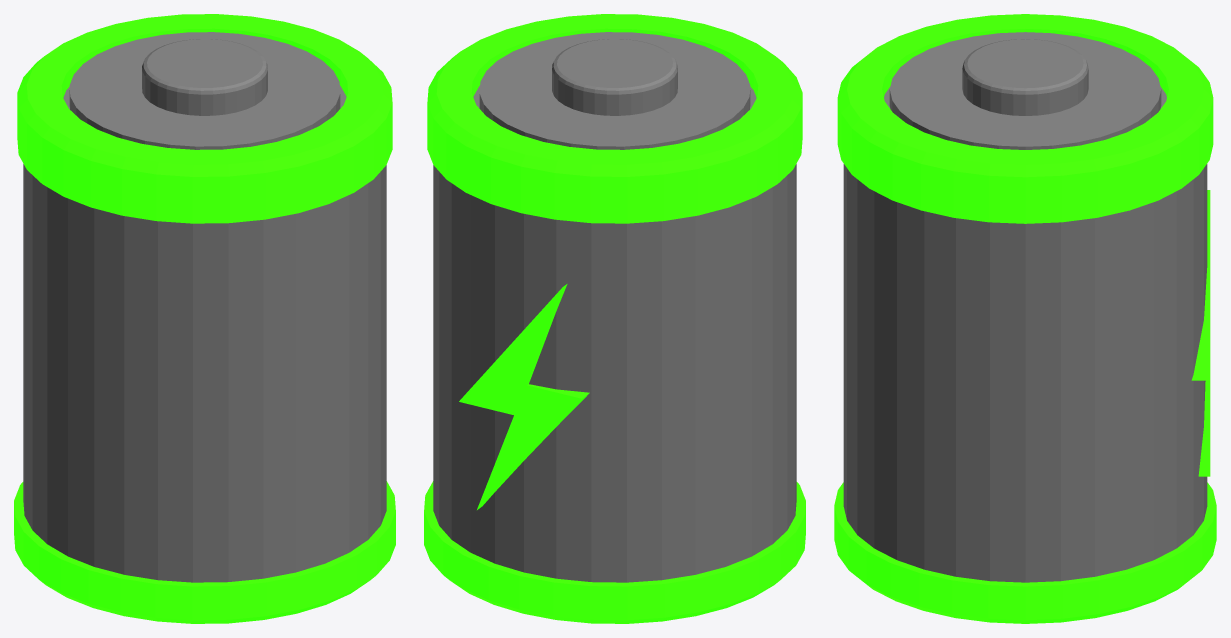
Rendered from Battery.fbx.
3 renders of one model, left to right at view 1: azimuth 30°, elevation 25°; view 2: azimuth 150°, elevation 25°; view 3: azimuth 270°, elevation 25°, orthographic.
Visible parts, largest first — view 1: Battery; view 2: Battery; view 3: Battery.
Part boxes in pixels (box(x1,y1,x2,y2)): Battery: box(14, 14, 395, 623); Battery: box(424, 14, 805, 623); Battery: box(834, 14, 1216, 623).
Bounding box in the file's own units: 210 × 293 × 210.
